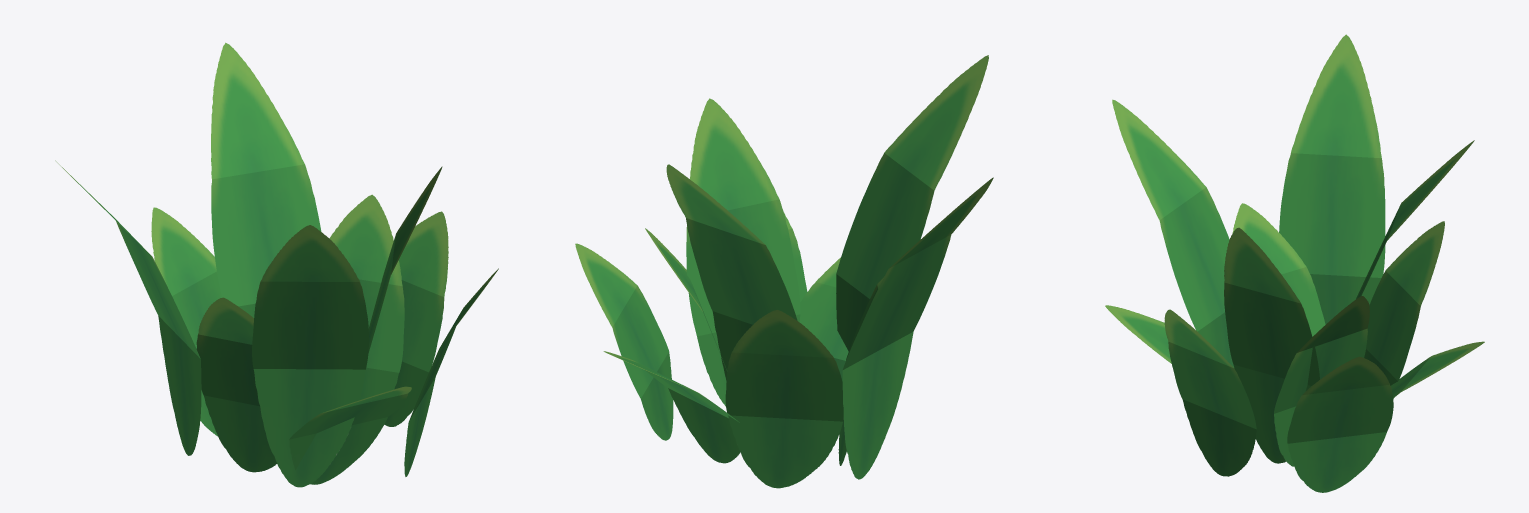
The model's file is grass.fbx.
3 views of the same model, side by side, from view 1: azimuth 30°, elevation 25°; view 2: azimuth 150°, elevation 25°; view 3: azimuth 270°, elevation 25° (orthographic). The views are drawn at different scales.
Visible parts, largest first — view 1: Plane; view 2: Plane; view 3: Plane.
Part boxes in pixels (box(x1,y1,x2,y2)): Plane: box(55, 42, 498, 487); Plane: box(575, 55, 993, 488); Plane: box(1105, 34, 1484, 492).
Size of the model in its own units: 44.12 by 34.46 by 41.98.
